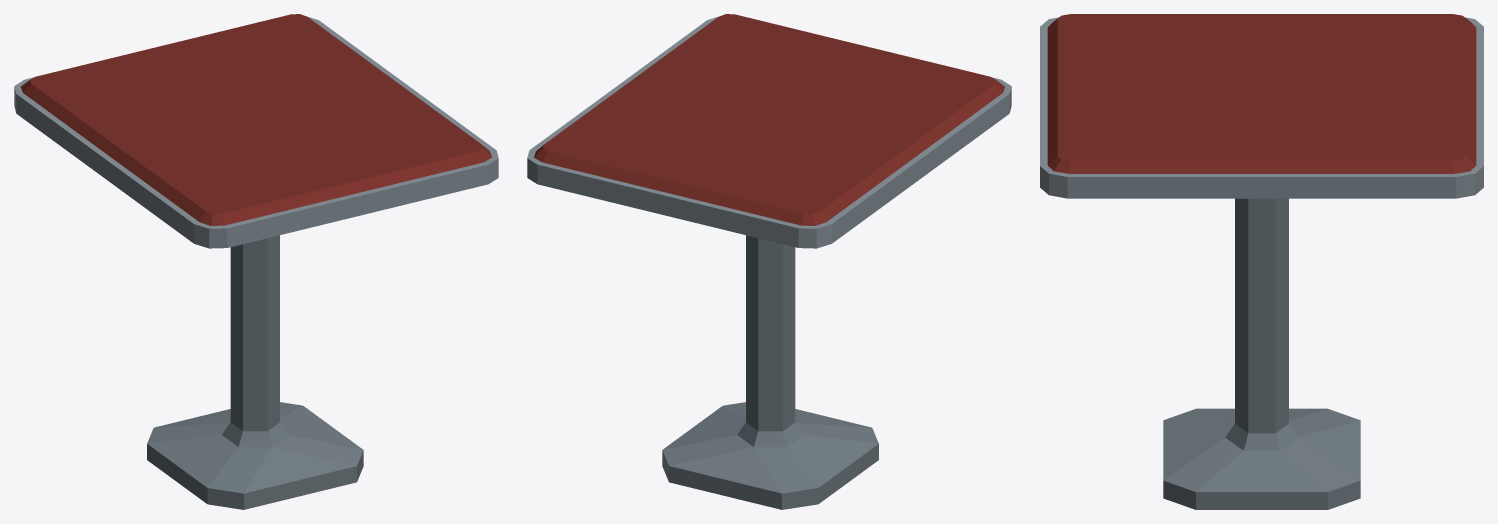
Rendered from SM_Prop_Cafe_Table_Small_04.obj.
The picture shows the model from 3 angles, left to right: view 1: azimuth 30°, elevation 25°; view 2: azimuth 150°, elevation 25°; view 3: azimuth 270°, elevation 25°; orthographic projection. The views are drawn at different scales.
Visible parts, largest first — view 1: SM_Prop_Cafe_Table_Small_04_0; view 2: SM_Prop_Cafe_Table_Small_04_0; view 3: SM_Prop_Cafe_Table_Small_04_0.
Part boxes in pixels (<box>): SM_Prop_Cafe_Table_Small_04_0: <box>14,14,498,509</box>; SM_Prop_Cafe_Table_Small_04_0: <box>527,14,1011,509</box>; SM_Prop_Cafe_Table_Small_04_0: <box>1040,14,1483,509</box>.
Size of the model in its own units: 0.9974 by 1.1 by 1.16.
1 material, 1 textured.
